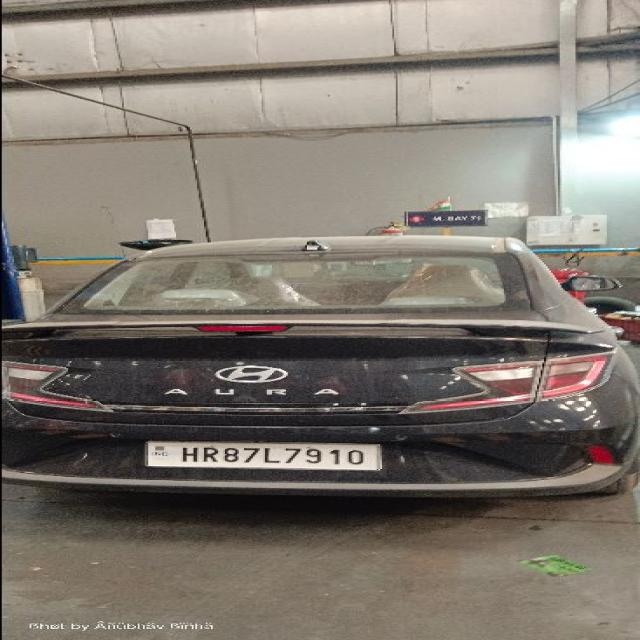license_plate: (141, 439, 382, 471)
